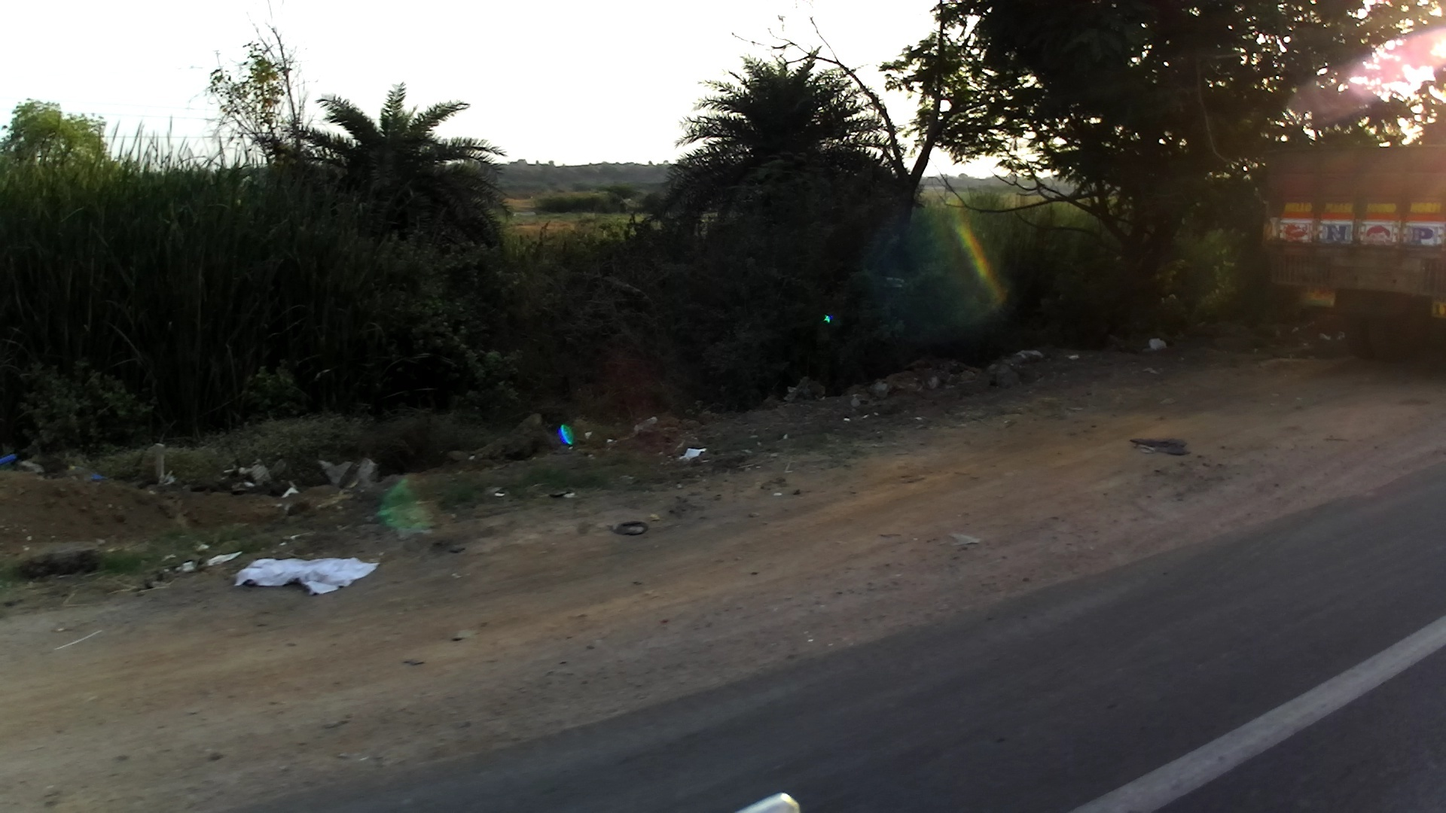truck: (1257, 145, 1445, 367)
